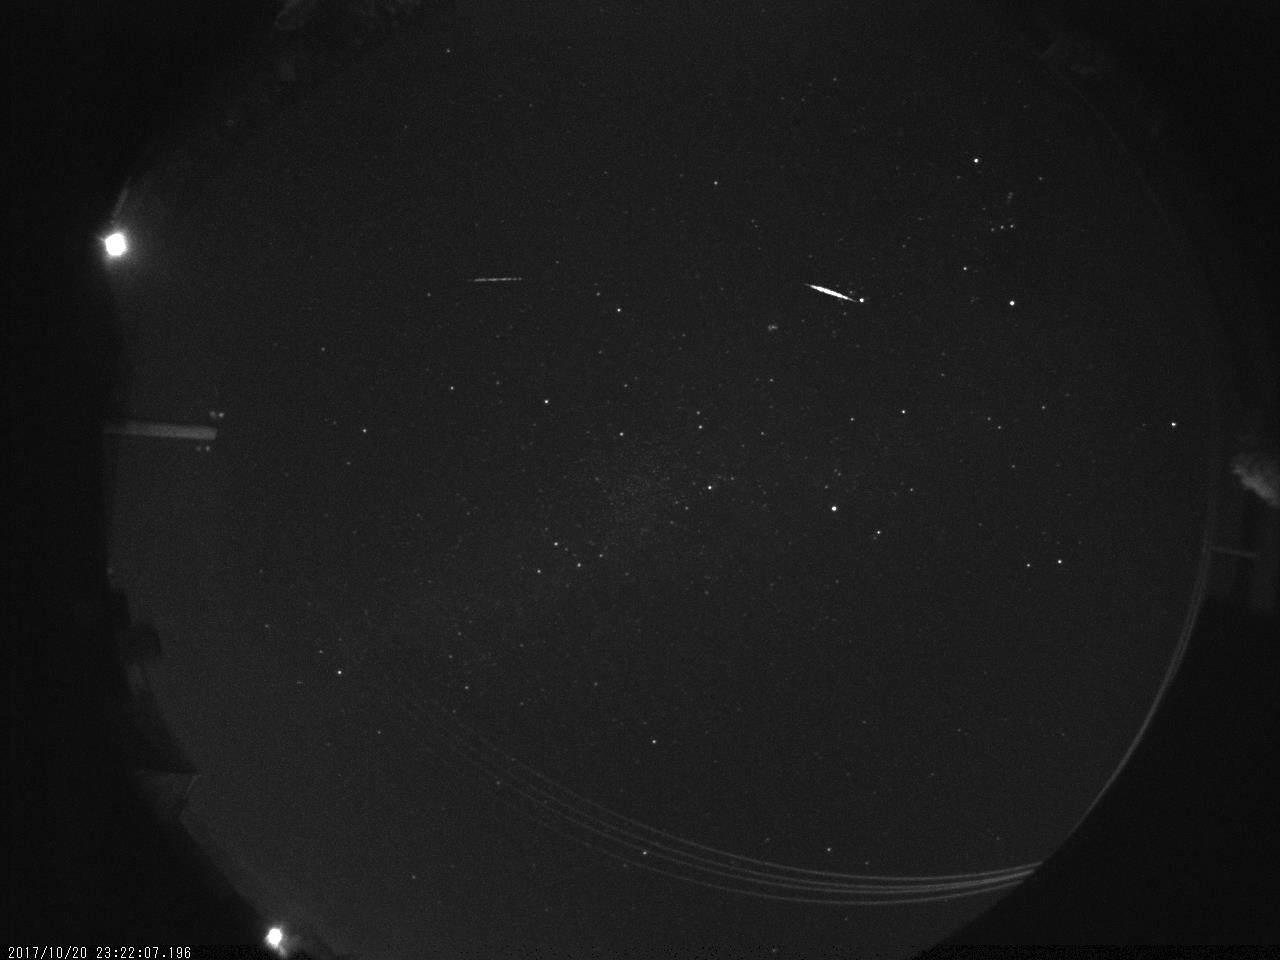meteor: (808, 276, 864, 318)
